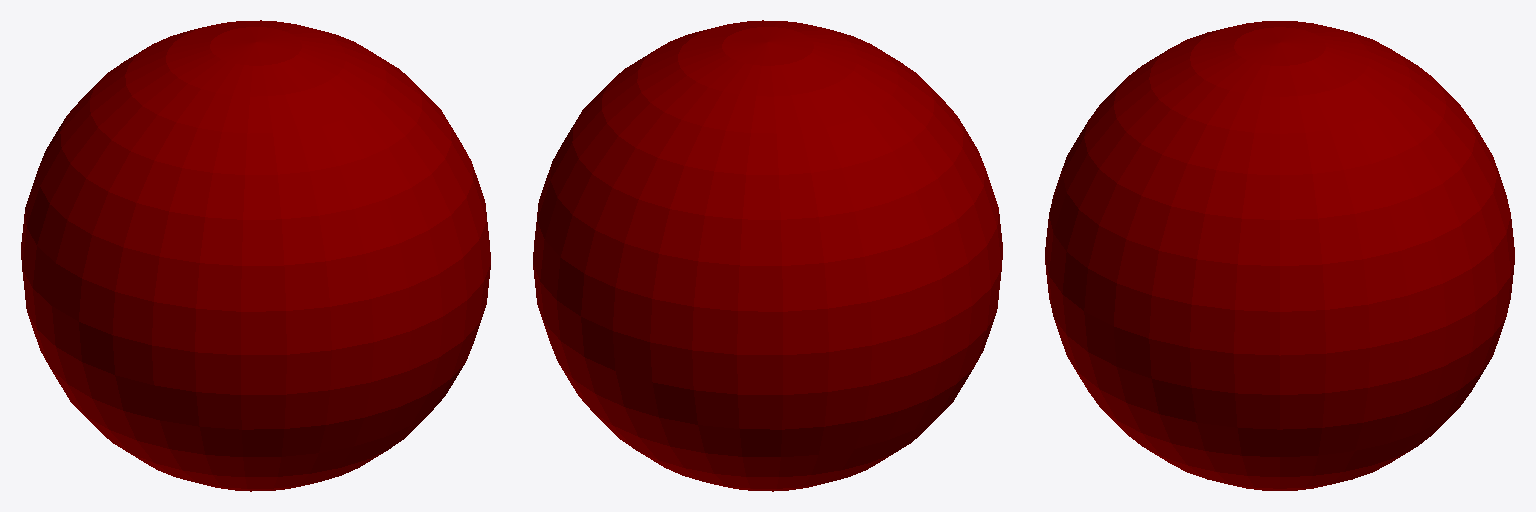
The robot description file, URDF, robot "PingPong_Ball":
<?xml version="1.0" ?>
<robot name="PingPong_Ball">
  <link name="Ball">
    <contact>
      <rolling_friction value="0.001"/>
      <spinning_friction value="0.001"/>
    </contact>
    <inertial>
      <origin rpy="0 0 0" xyz="0 0 0"/>
       <mass value="0.0027"/>
       <inertia ixx="4.32E-06" ixy="0" ixz="0" iyy="4.32E-06" iyz="0" izz="4.32E-06"/>
    </inertial>
    <visual>
      <origin
        xyz="0 0 0"
        rpy="0 0 0" />
      <geometry>
	 <sphere radius="0.02"/>
      </geometry>
      <material
        name="">
        <color
          rgba="0.556862745098039 0 0 1" />
      </material>
    </visual>
    <collision>
      <origin rpy="0 0 0" xyz="0 0 0"/>
      <geometry>
	 <sphere radius="0.02"/>
      </geometry>
    </collision>
  </link>
</robot>

--- What the picture shows (computed from the rendered views, not written in the file) ---
Views: 3 orthographic renders of the robot side by side, from view 1: azimuth 30°, elevation 25°; view 2: azimuth 150°, elevation 25°; view 3: azimuth 270°, elevation 25°.
Model PingPong_Ball with 1 links and 0 joints (none), rooted at Ball, posed all joints at 0.
Links seen in each view (by area): view 1: Ball; view 2: Ball; view 3: Ball.
Boxes of the visible links, x1,y1,x2,y2 form: Ball: [21, 20, 490, 491]; Ball: [533, 20, 1002, 491]; Ball: [1045, 21, 1514, 490].
Size in the robot's own frame: 0.04 by 0.04 by 0.04 metres.
Geometry: primitives only (box / cylinder / sphere), no mesh files.